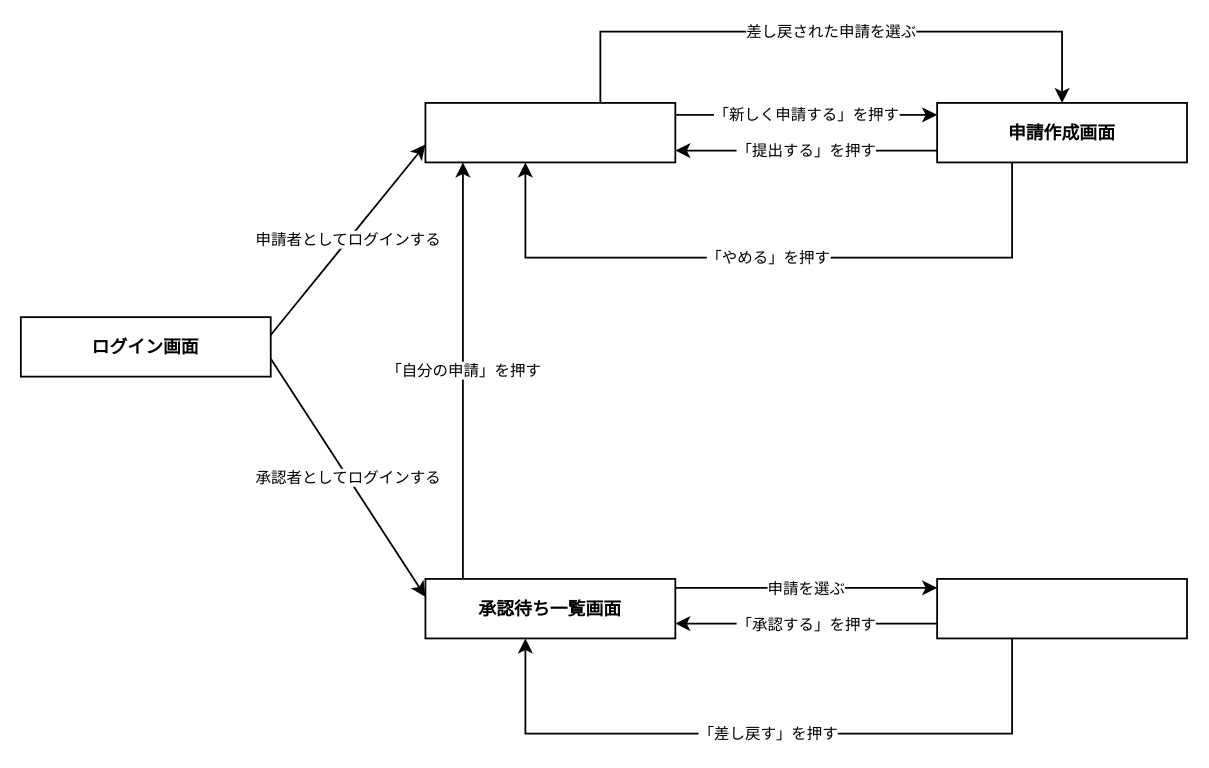
This 1209x768 diagram has some shape labels left out. The centre of each missing label's shape, as x and y in pixels:
"申請一覧画面" goes at point 550,132.
"申請詳細画面" goes at point 1061,608.
